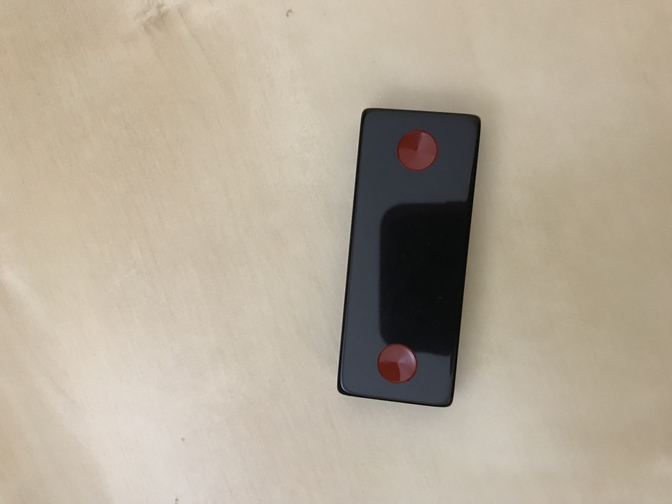earth: (336, 108, 483, 408)
